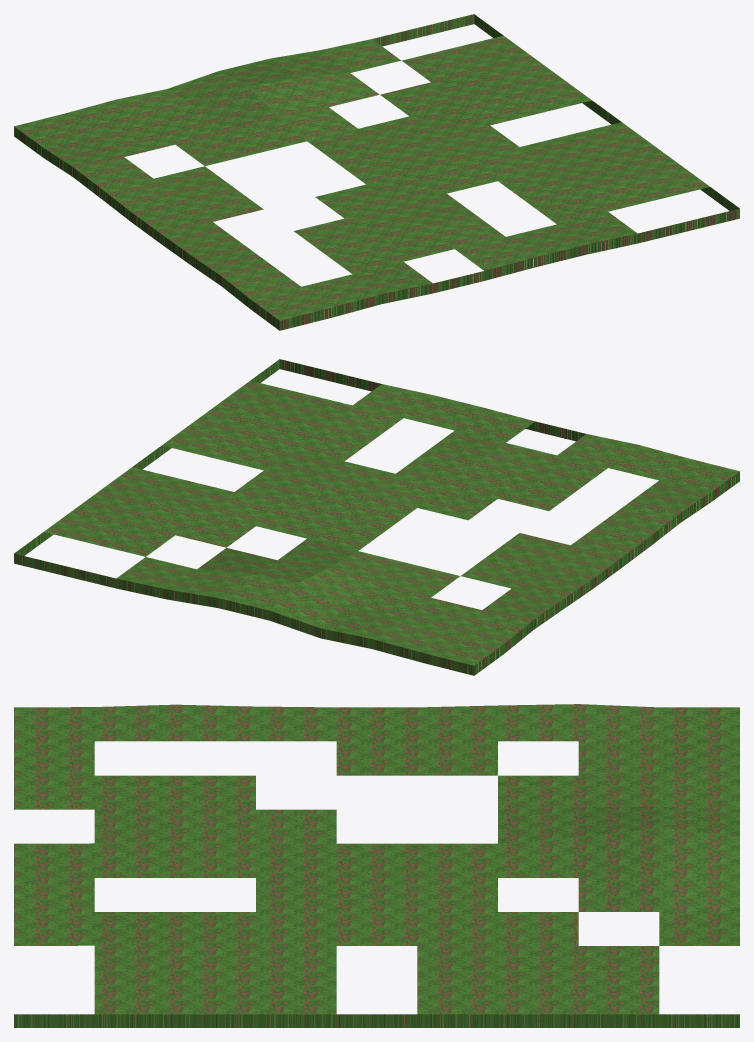
The model's file is rv_terrain_12_lod2.gltf.
3 views of the same model, one above another, from view 1: azimuth 30°, elevation 25°; view 2: azimuth 150°, elevation 25°; view 3: azimuth 270°, elevation 25° (orthographic). The views are drawn at different scales.
Visible parts, largest first — view 1: RV_Terrain_12_lod2; view 2: RV_Terrain_12_lod2; view 3: RV_Terrain_12_lod2.
Part boxes in pixels (<box>): RV_Terrain_12_lod2: <box>14,14,739,330</box>; RV_Terrain_12_lod2: <box>14,359,739,675</box>; RV_Terrain_12_lod2: <box>14,704,739,1027</box>.
Bounding box in the file's own units: 72 × 3.25 × 72.
Materials: 2 (1 with a texture image).
